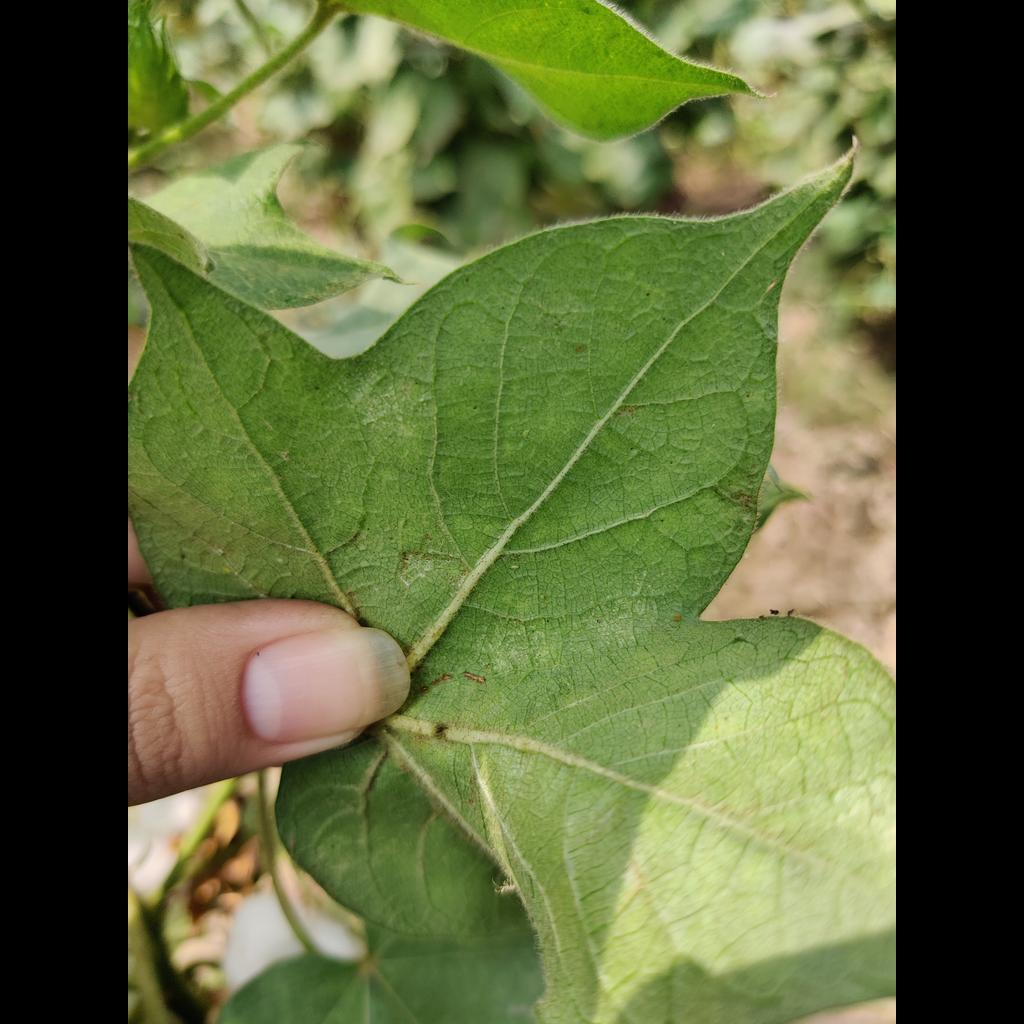nymph: (511, 564, 520, 569)
